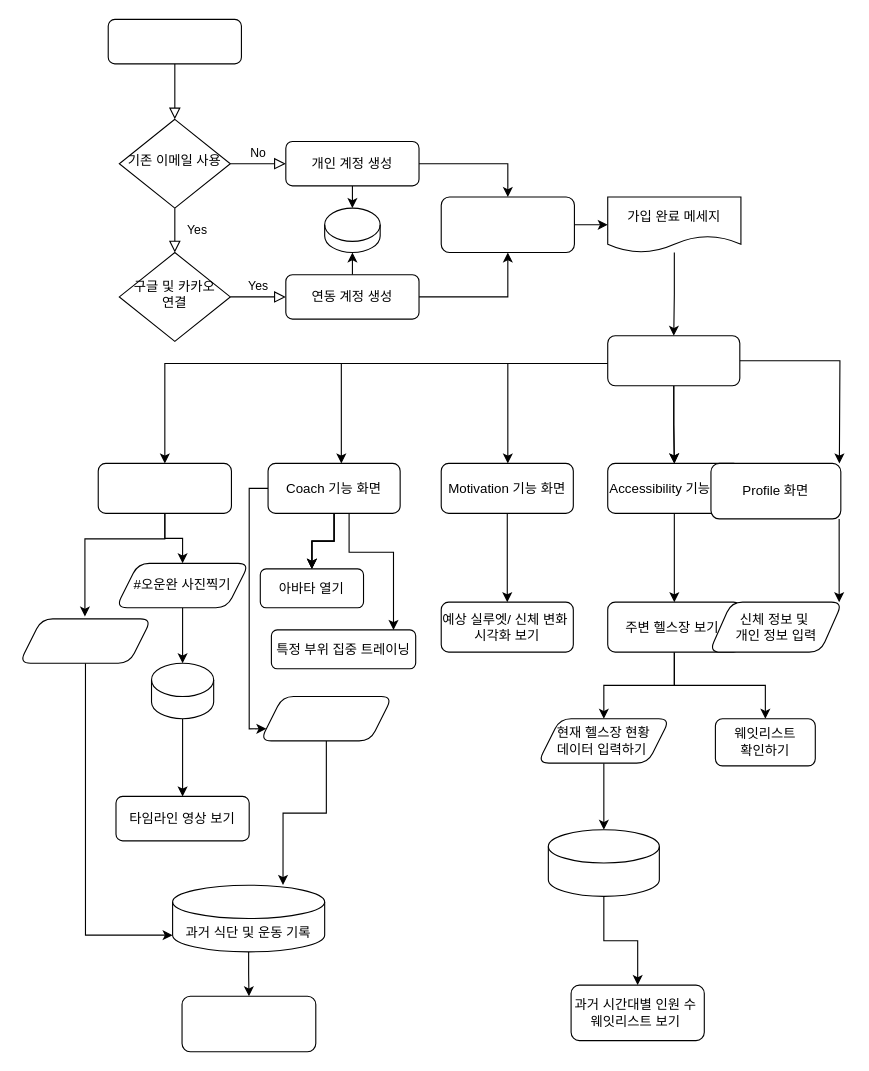
The diagram is 869 pixels wide and 1071 high, and some of its shapes have lost their labels. Here are the shapes that lost their labels. From the top down, the centre of each, then its label:
the point at 174,41: 회원 가입 (유저 입력)
the point at 352,230: DB 저장
the point at 507,224: 위치 정보 및 개인 정보 활용 동의
the point at 673,360: Main Page 화면
the point at 164,487: Record 기능 화면
the point at 85,640: 식단 및 운동 기록
the point at 182,690: 전 후 사진 기록
the point at 325,718: 인바디 / 몸상태 기록 및 분석 결과
the point at 603,862: 헬스장 데이터
the point at 248,1023: 식단 및 운동 추천 보기
